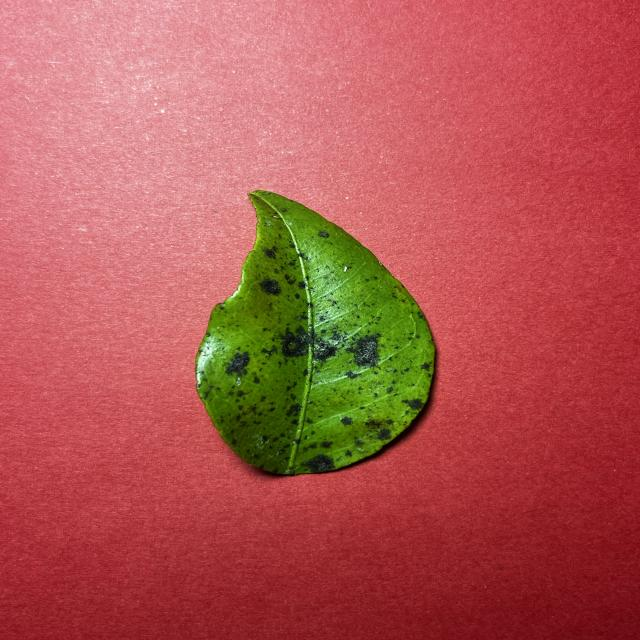sooty_mold: (196, 191, 434, 475)
